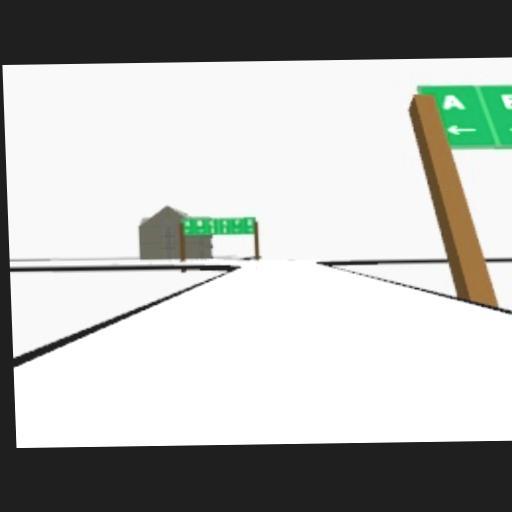A: (441, 93, 467, 112)
B: (500, 90, 512, 109)
Left: (444, 123, 478, 133)
